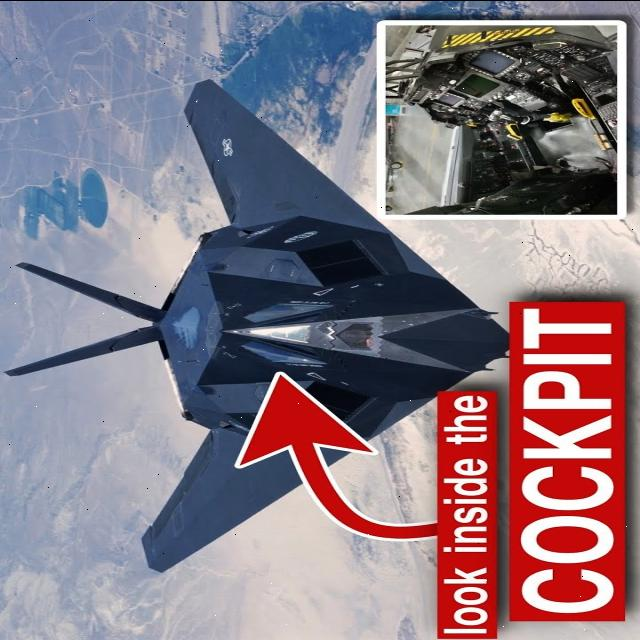F117: (0, 54, 558, 592)
